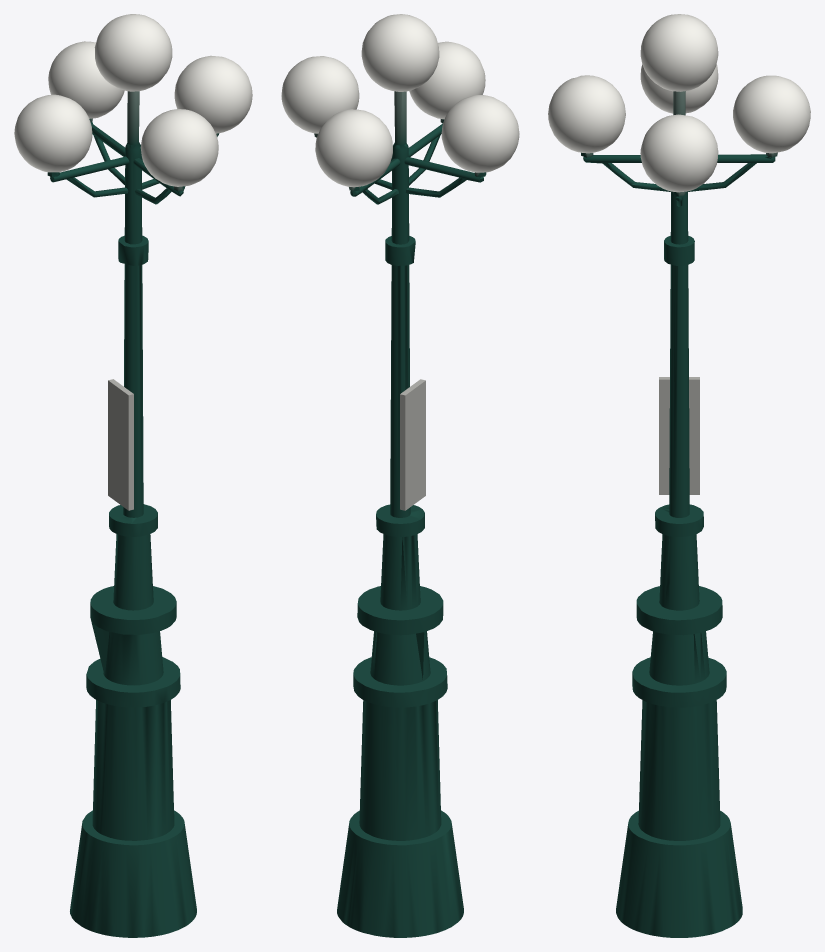
The model's file is den_cot_den_cau_xanh.glb.
3 renders of one model, left to right at view 1: azimuth 30°, elevation 25°; view 2: azimuth 150°, elevation 25°; view 3: azimuth 270°, elevation 25°, orthographic.
Parts seen in each view (by area): view 1: den_cong_vien; view 2: den_cong_vien; view 3: den_cong_vien.
Part boxes in pixels (<box>): den_cong_vien: <box>14,14,252,937</box>; den_cong_vien: <box>281,14,519,937</box>; den_cong_vien: <box>548,14,810,937</box>.
Bounding box in the file's own units: 1.28 × 4.8 × 1.28.
